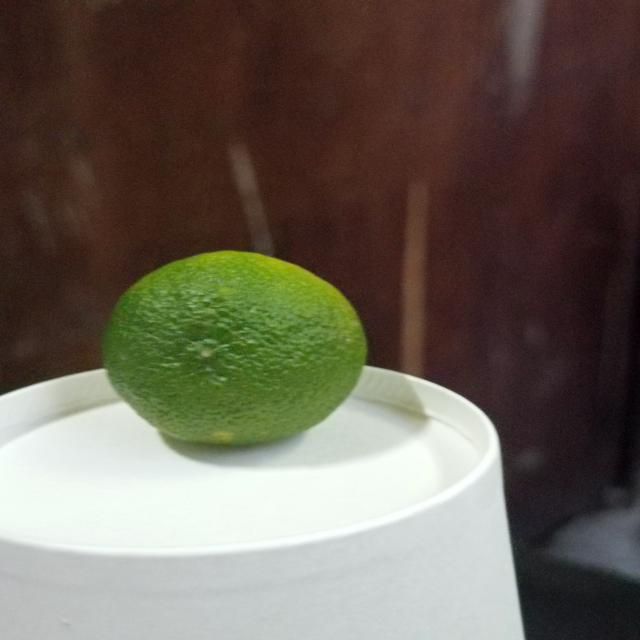heathy: (100, 253, 378, 453)
